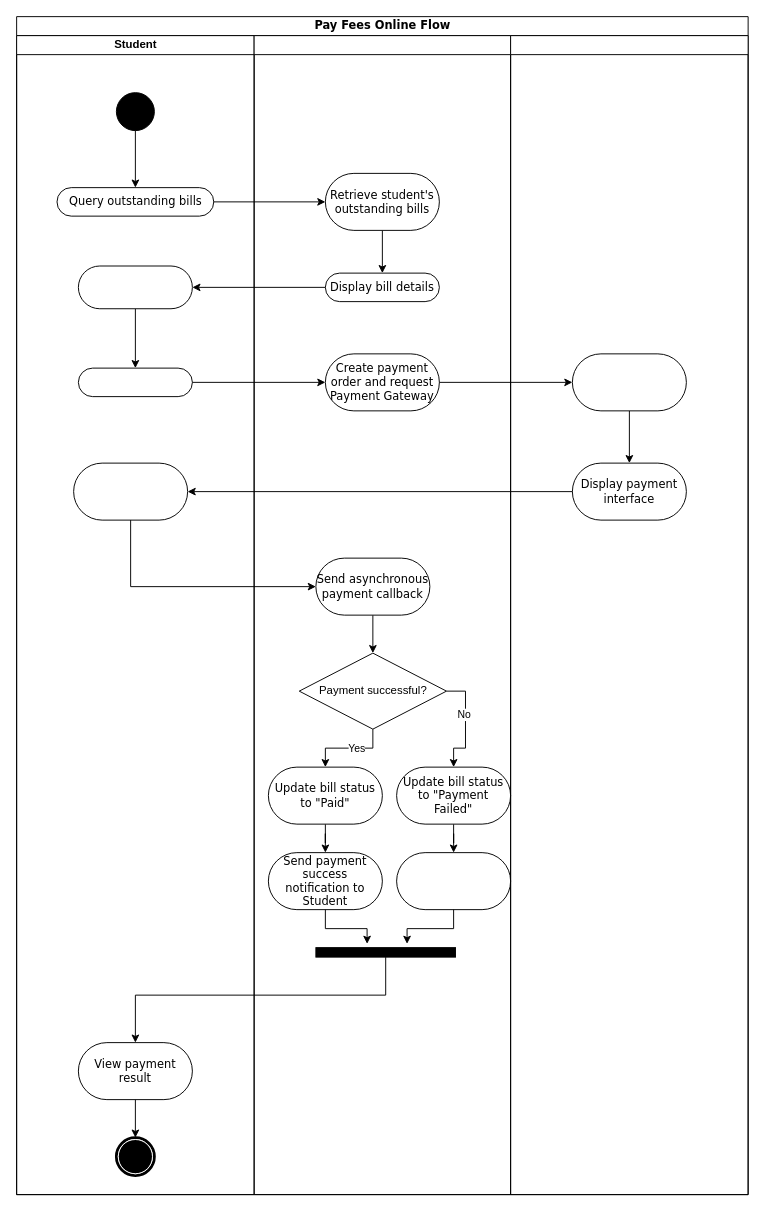
The diagram is 765 pixels wide and 1211 high, and some of its shapes have lost their labels. Here are the shapes that lost their labels. From the top down, the box of each, then its label:
(77, 265, 192, 309): Confirm bill and select payment method
(77, 367, 192, 397): Click "Pay Now"
(571, 353, 686, 411): Process payment request
(73, 462, 188, 520): Confirm payment
(253, 35, 511, 1195): System
(510, 35, 748, 1195): Payment Gateway
(396, 852, 511, 910): Show payment failed message to Student
